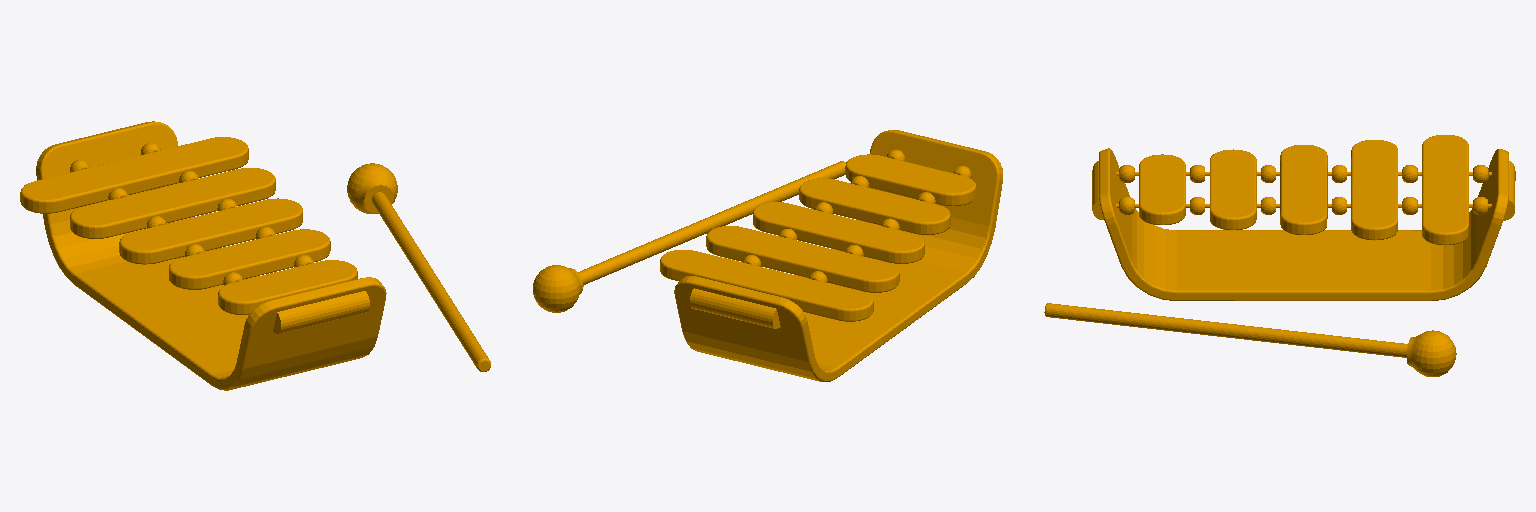
URDF robot description (xylophone):
<robot name="xylophone">
  <link name="xylophone">
    <inertial>
      <mass value="1" />
      <!-- center of mass (com) is defined w.r.t. link local coordinate system -->
      <origin xyz="0 0 0.06" /> 
      <inertia  ixx="1" ixy="0.0"  ixz="0.0"  iyy="1"  iyz="0.0"  izz="1" />
    </inertial>
    <visual>
      <!-- visual origin is defined w.r.t. link local coordinate system -->
      <origin xyz="0 0 0" rpy="0 0 1.57" />
      <geometry>
        <mesh filename="package://system_launch/models/mesh/xylophone.dae" scale="1 1 1" />
      </geometry>
    </visual>
  </link>
  <gazebo reference="xylophone">
    <turnGravityOff>true</turnGravityOff>
  </gazebo>
</robot>

--- What the picture shows (computed from the rendered views, not written in the file) ---
Views: 3 orthographic renders of the robot side by side, from view 1: azimuth 30°, elevation 25°; view 2: azimuth 150°, elevation 25°; view 3: azimuth 270°, elevation 25°.
Model xylophone with 1 links and 0 joints (none), rooted at xylophone, posed all joints at 0.
Links seen in each view (by area): view 1: xylophone; view 2: xylophone; view 3: xylophone.
Boxes of the visible links, bbox=[...] form: xylophone: bbox=[20, 121, 490, 390]; xylophone: bbox=[533, 130, 1002, 381]; xylophone: bbox=[1044, 135, 1515, 376].
Bounding box of the posed robot: 0.6573 × 0.7988 × 0.1864 m (x, y, z).
1 mesh visuals loaded from 1 distinct referenced files (1 Collada DAE).